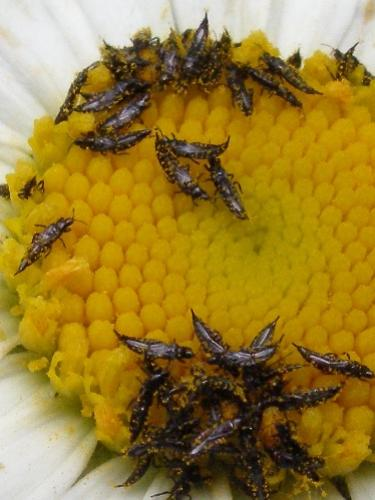Phlaeothripidae: (13, 205, 85, 275), (259, 42, 327, 98), (153, 142, 211, 204), (49, 60, 98, 126), (110, 329, 195, 363), (209, 158, 250, 221), (97, 91, 151, 135), (73, 127, 152, 154), (178, 14, 211, 74), (295, 346, 356, 377), (273, 389, 345, 415), (188, 311, 227, 358), (189, 417, 236, 455), (128, 379, 154, 442), (168, 134, 230, 160), (226, 67, 256, 119), (215, 348, 277, 368)
